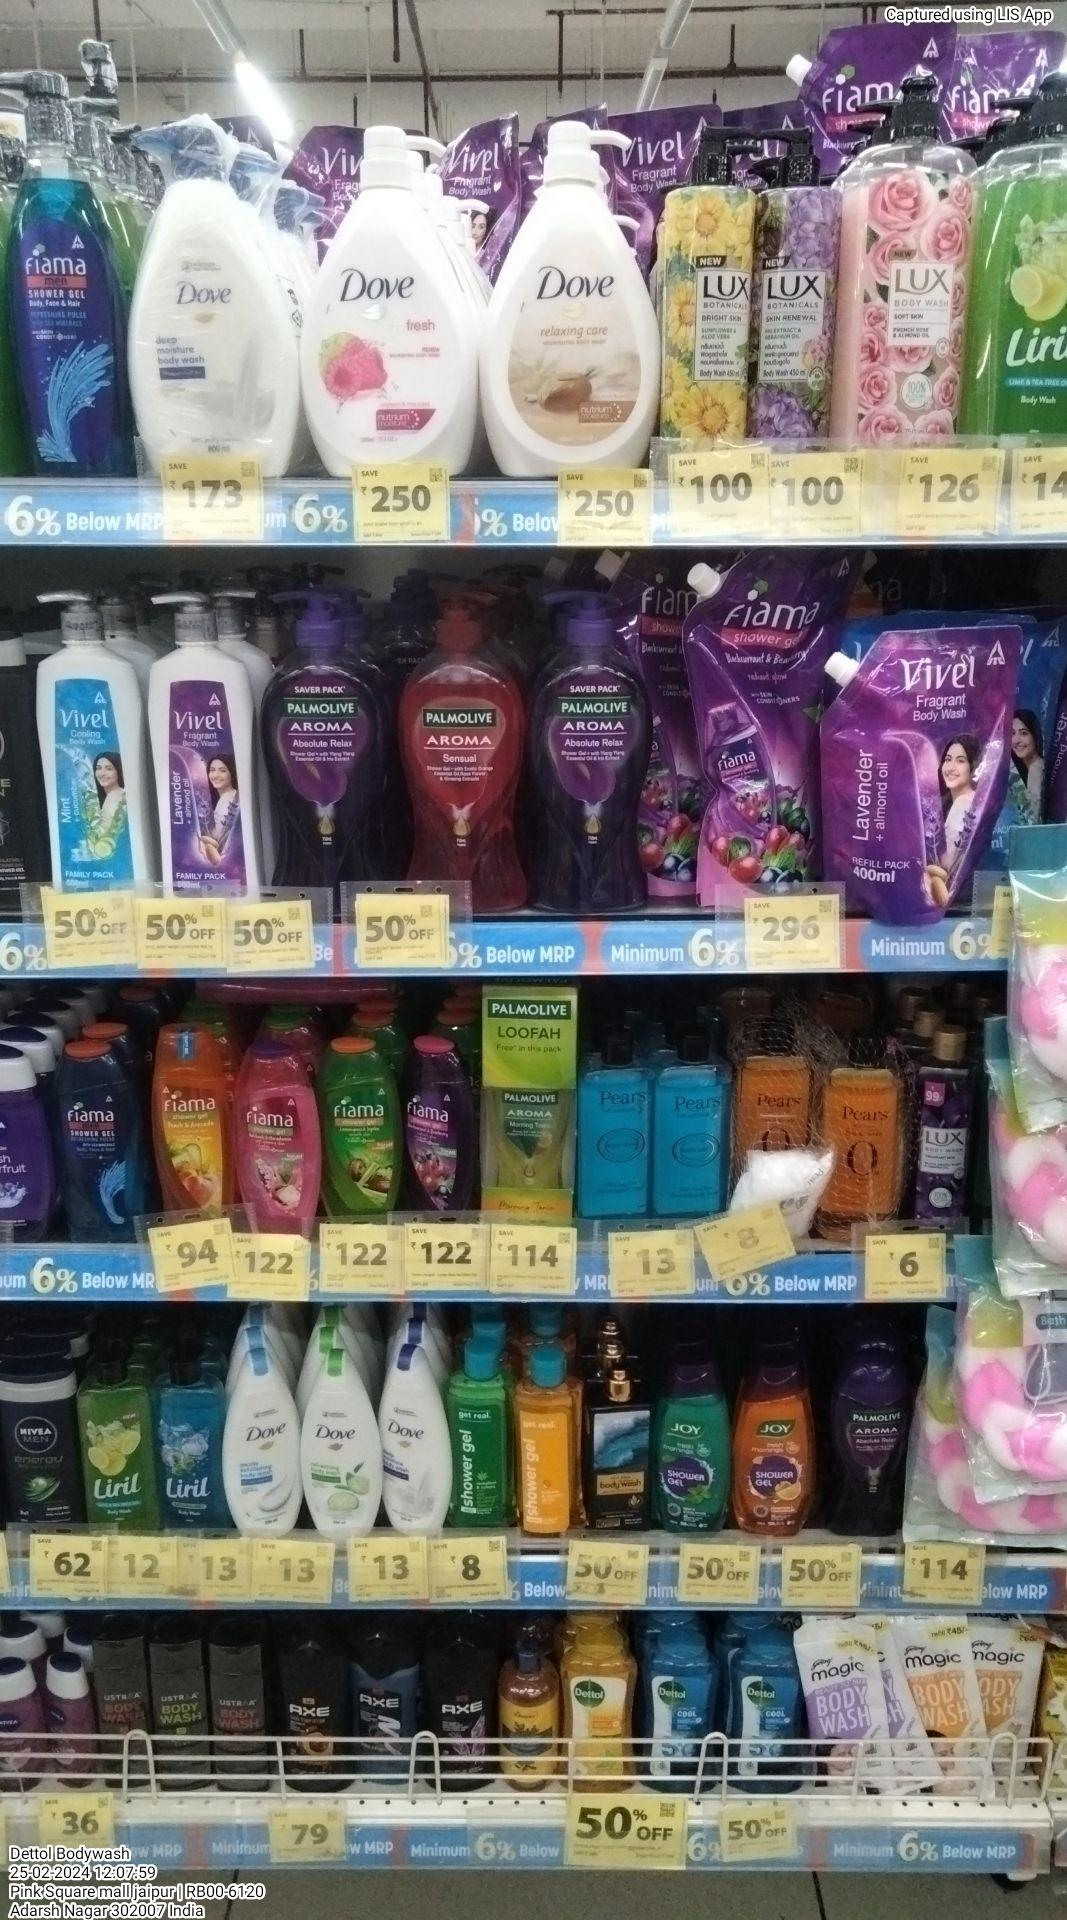Dettol_Bodywash_Cool: (733, 1640, 804, 1793), (650, 1643, 717, 1794)
Dettol_Bodywash_Refresh: (565, 1632, 635, 1790)
Dove_Deep_Moisture_Body_Wash_250ML: (382, 1346, 448, 1534)
Dove_Gentle_Exfoliating_Body_Wash_250ML: (226, 1357, 300, 1534)
Dove_Refreshing_Body_Wash_250ML: (305, 1353, 384, 1542)
Fiama_Shower_Gel_Lemongrass_and_Jojoba_250ML: (319, 1043, 399, 1217)
Fiama_Shower_Gel_Patchouli_and_Macadamia_250ML: (234, 1047, 318, 1234)
Fiama_Shower_Gel_Peach_and_Avocado_250ML: (154, 1034, 227, 1221)
Joy_Shower_Gel_Mandarin_and_Lemongrass_250ML: (738, 1349, 813, 1539)
Joy_Shower_Gel_Mint_and_Eucalyptus_250ML: (654, 1349, 724, 1535)
Liril_Cooling_Mint_Body_Wash_250ML: (162, 1355, 221, 1529)
Liril_Lime_and_Tea_Tree_Oil_Body_Wash_250ML: (79, 1355, 156, 1533)
Lux_Black_Orchid_Scent_and_Juniper_Oil_Body_Wash_245ML: (915, 1028, 976, 1234)
Palmolive_Aroma_Relax_250ML: (834, 1350, 912, 1534)
Pears_Pure_Glycerin_and_Mint_Extracts_Body_Wash_250ML: (578, 1041, 653, 1217), (656, 1036, 728, 1217)
